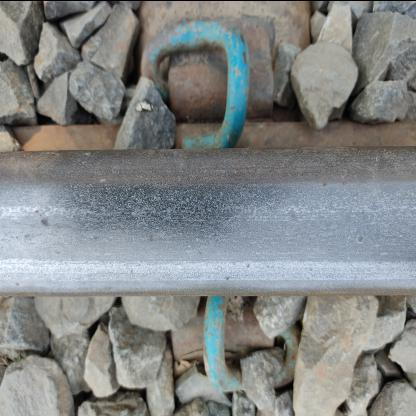Non Defective 1: (252, 124, 406, 284), (9, 161, 138, 303)
